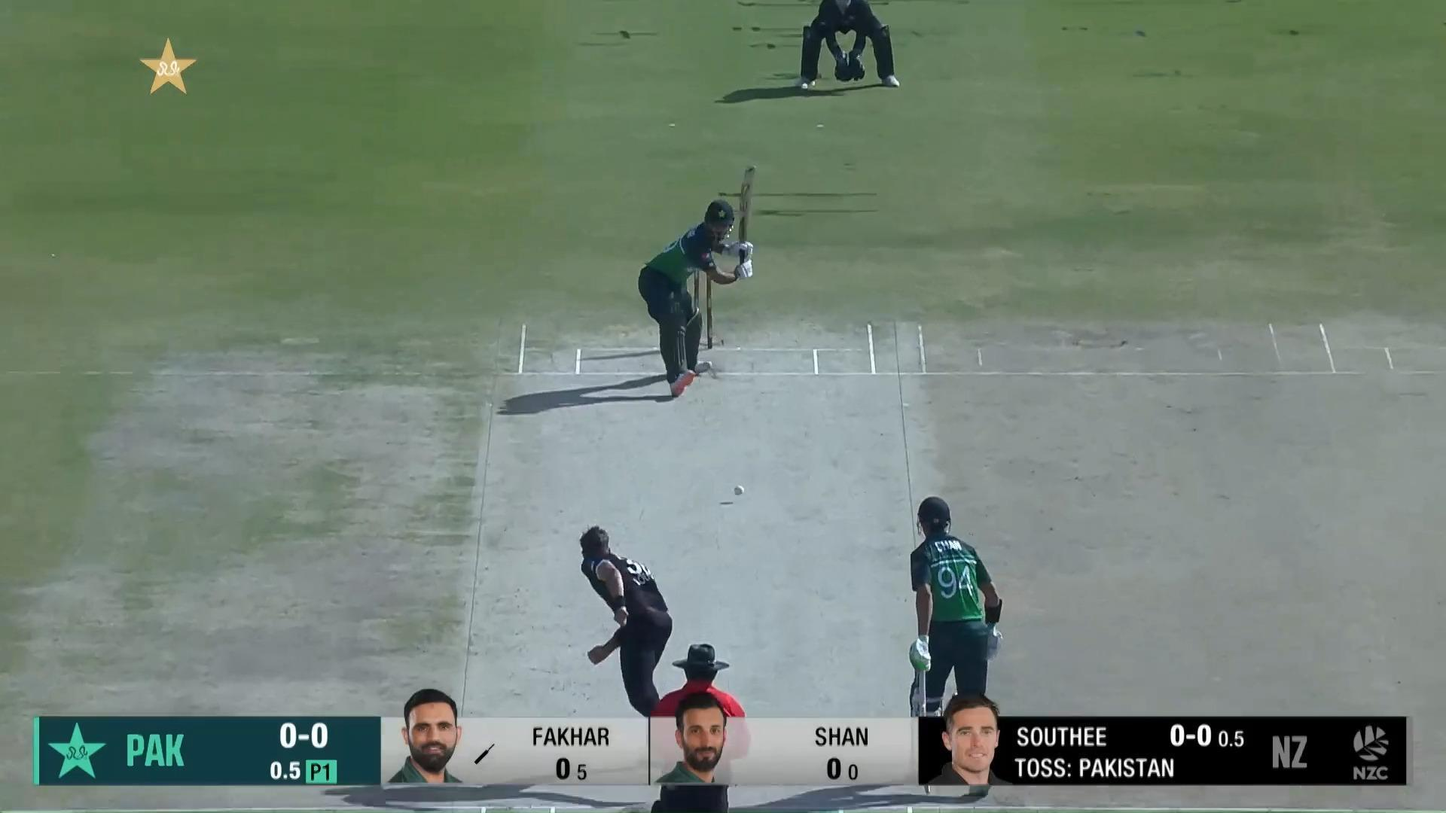BM 1: (638, 164, 757, 397)
BO: (580, 524, 674, 717)
